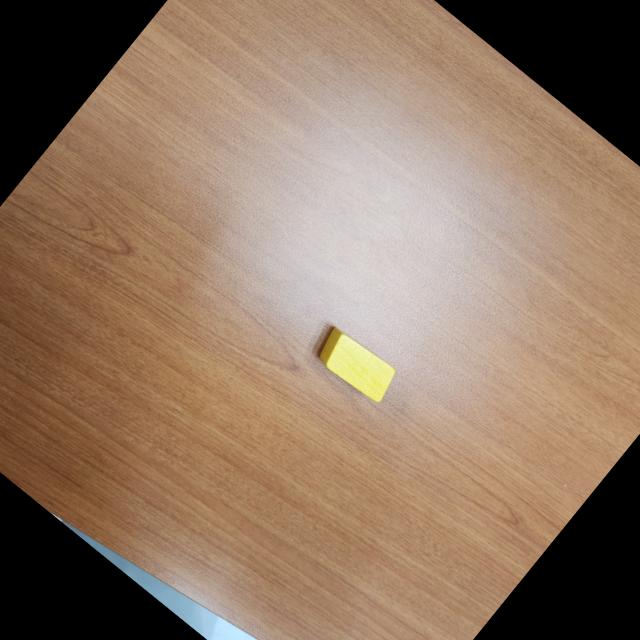yellow: (310, 321, 402, 407)
